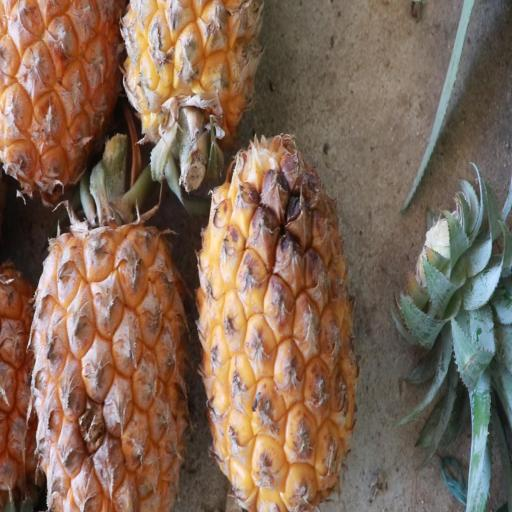Pineapple - v8 v1: (195, 127, 357, 512), (27, 189, 191, 512), (0, 0, 125, 201), (119, 0, 263, 162)
